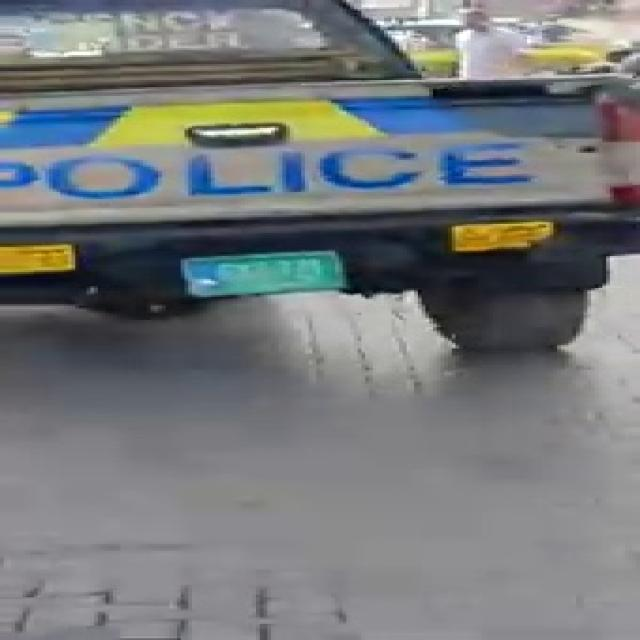police: (0, 0, 640, 337)
